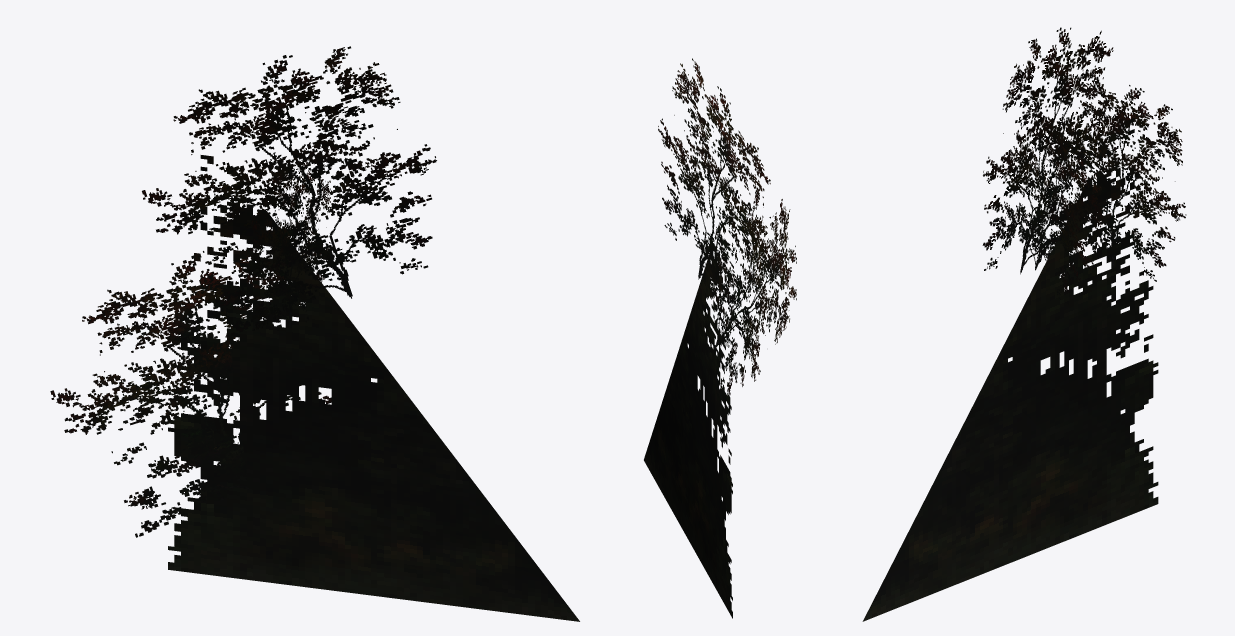
File: cell_4_-5.gltf
3 views of the same model, side by side, from view 1: azimuth 30°, elevation 25°; view 2: azimuth 150°, elevation 25°; view 3: azimuth 270°, elevation 25° (orthographic). The views are drawn at different scales.
Parts seen in each view (by area): view 1: cell_4_-5; view 2: cell_4_-5; view 3: cell_4_-5.
Boxes of the visible parts, left/top/right/bottom form: cell_4_-5: left=50, top=46, right=579, bottom=621; cell_4_-5: left=644, top=58, right=796, bottom=618; cell_4_-5: left=862, top=27, right=1186, bottom=621.
Bounding box in the file's own units: 24.87 × 36.5 × 21.7.
Materials: 2 (2 with a texture image).
